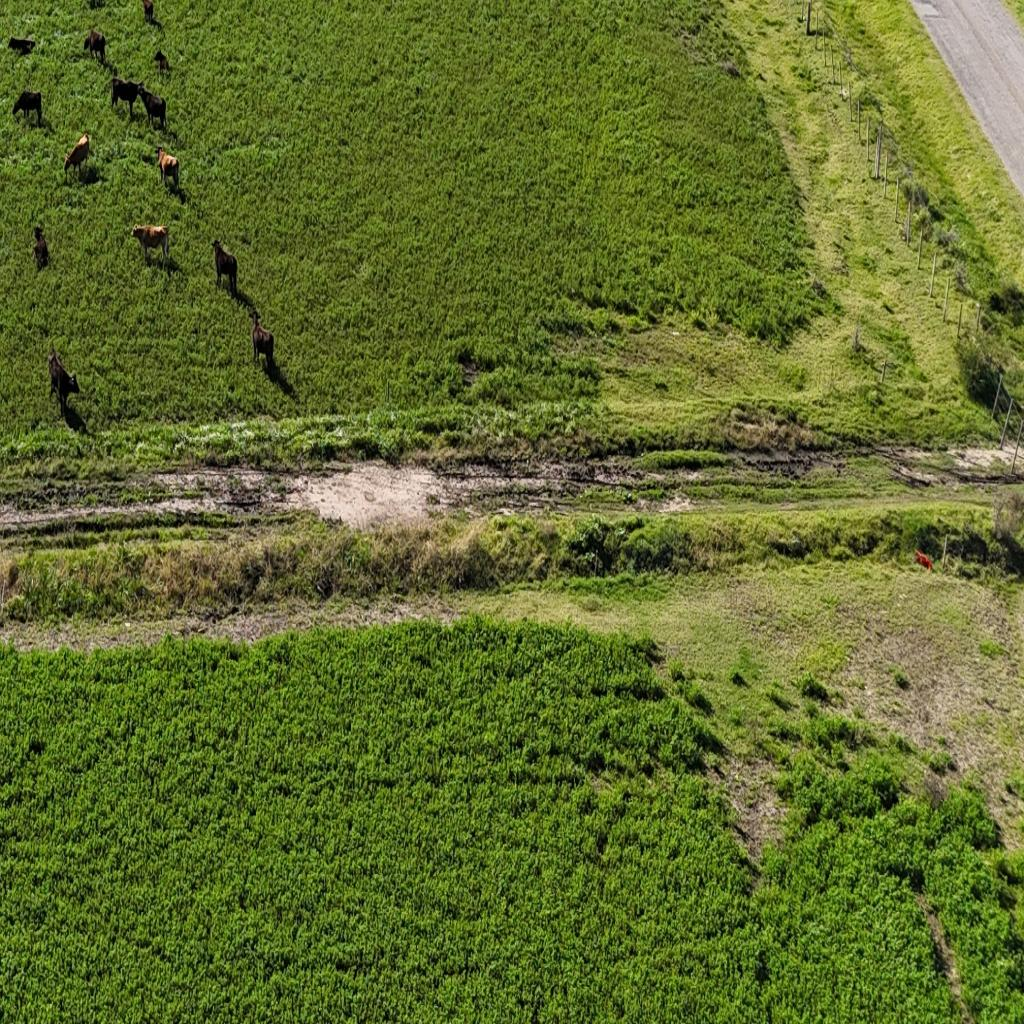cow: (48, 349, 80, 419), (130, 222, 170, 266), (250, 305, 274, 369), (212, 239, 238, 297), (137, 84, 166, 132), (110, 76, 142, 119), (64, 132, 90, 180), (12, 89, 43, 127), (155, 146, 179, 194), (83, 28, 106, 65), (33, 226, 49, 272), (8, 34, 36, 56), (154, 50, 170, 76), (141, 0, 154, 23)
